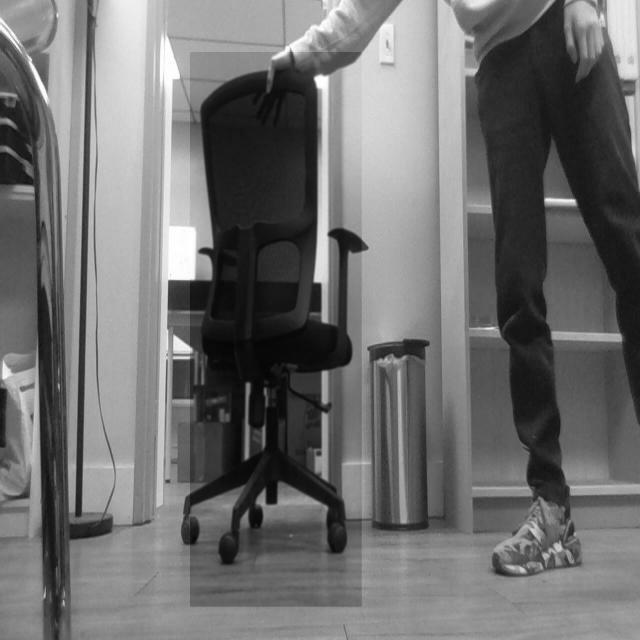chair: (157, 75, 376, 577)
